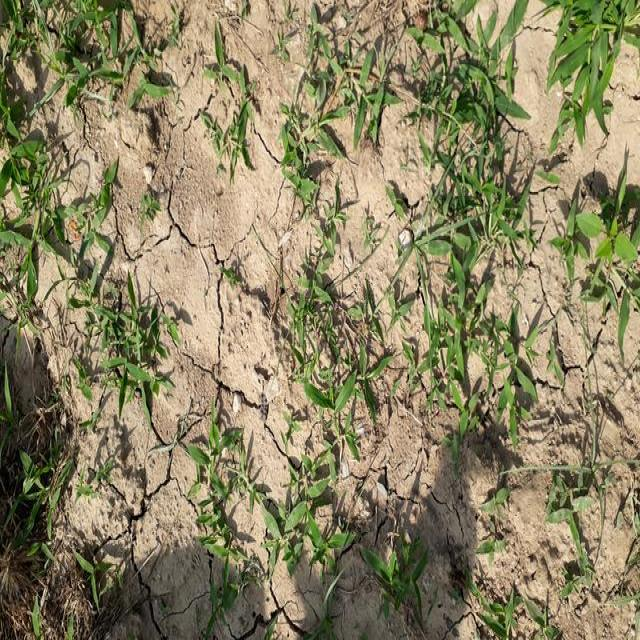weed: (389, 36, 530, 442), (262, 243, 387, 577), (0, 283, 184, 507), (0, 0, 141, 243), (536, 5, 640, 151)
